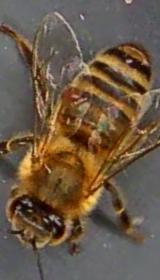varroa_mite: (56, 76, 88, 108)
